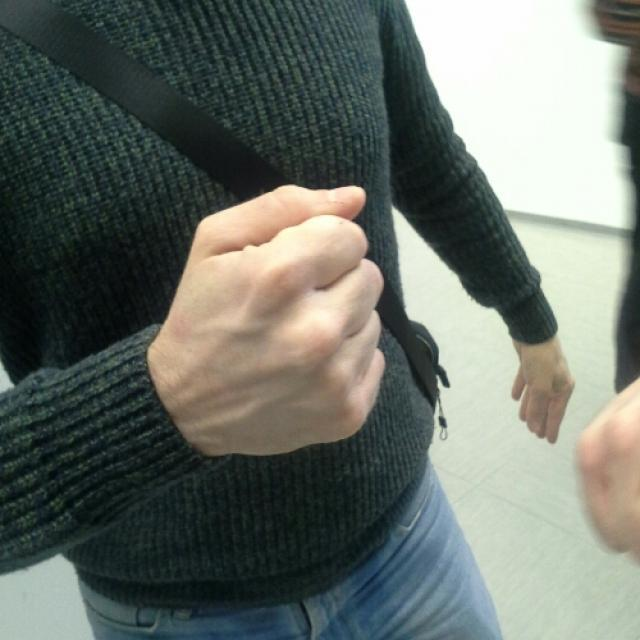rock: (175, 181, 388, 456)
